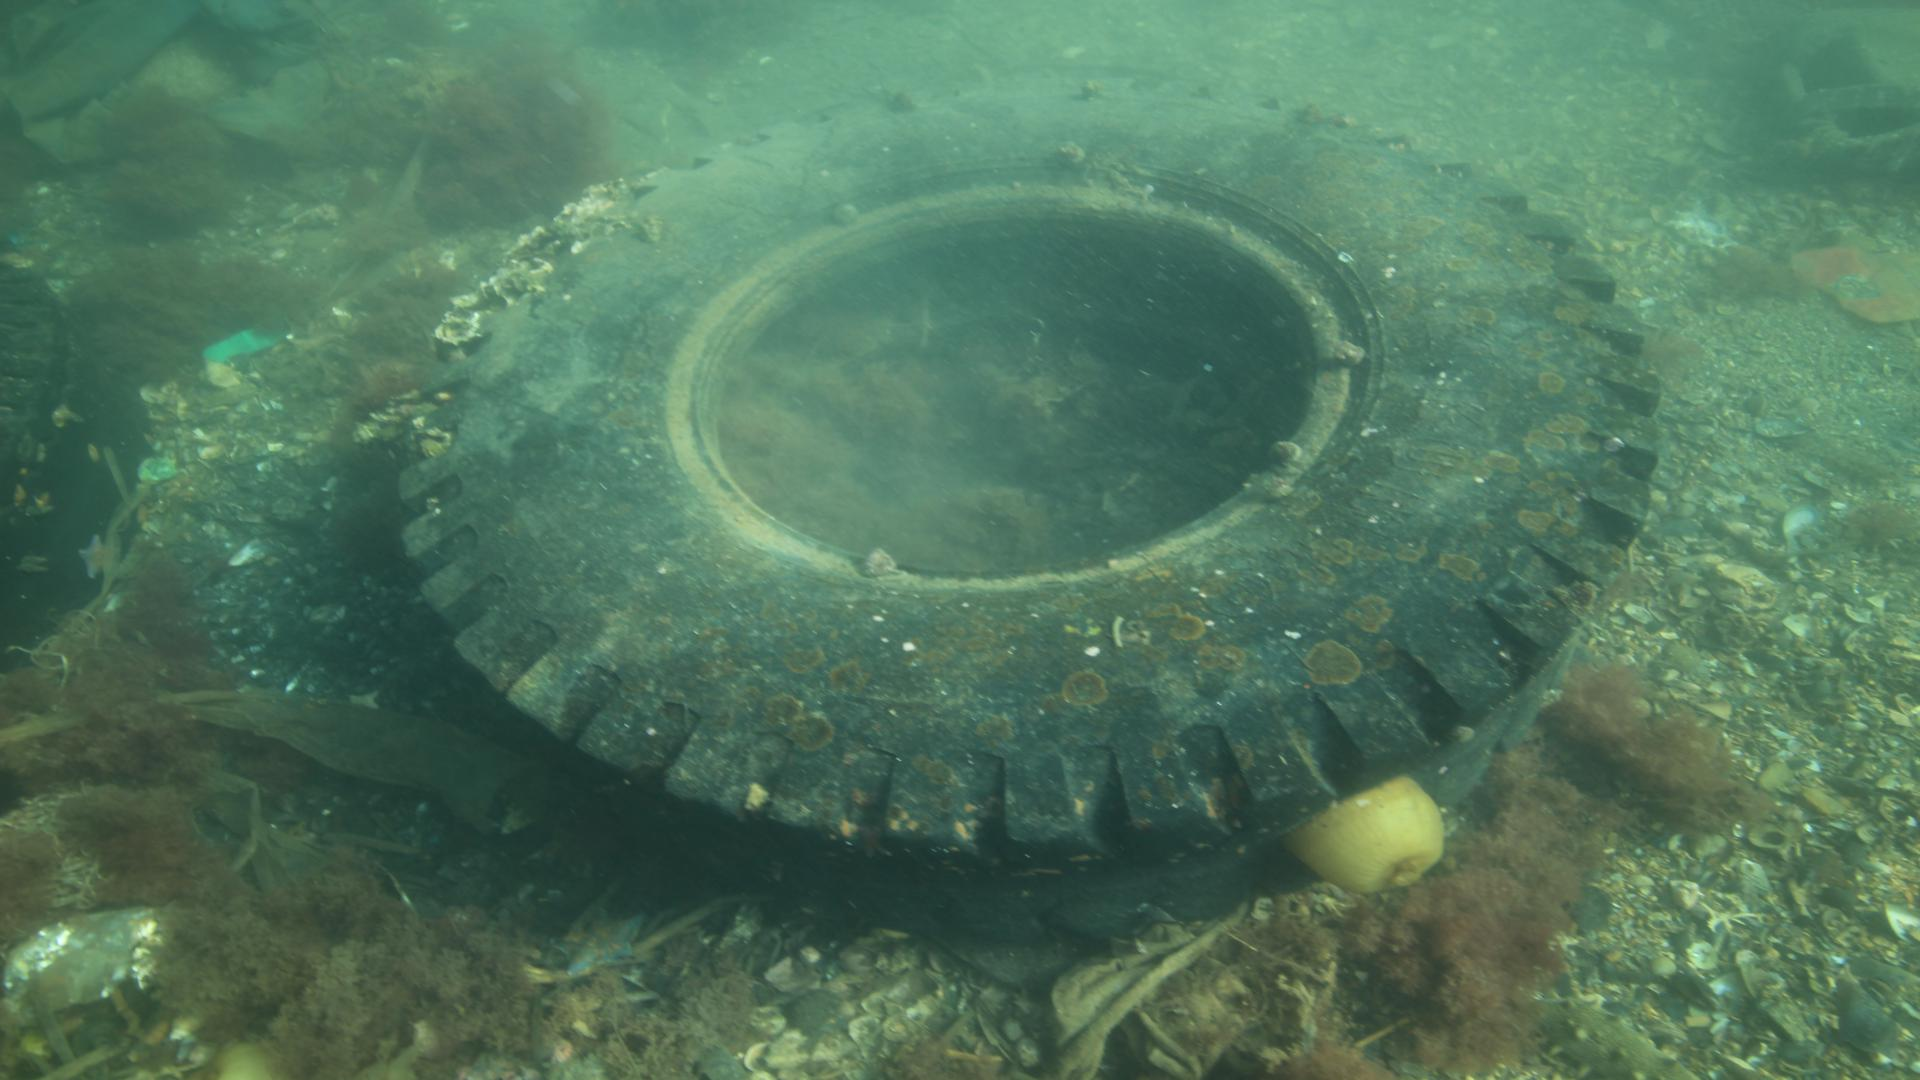tire: (393, 87, 1662, 932)
